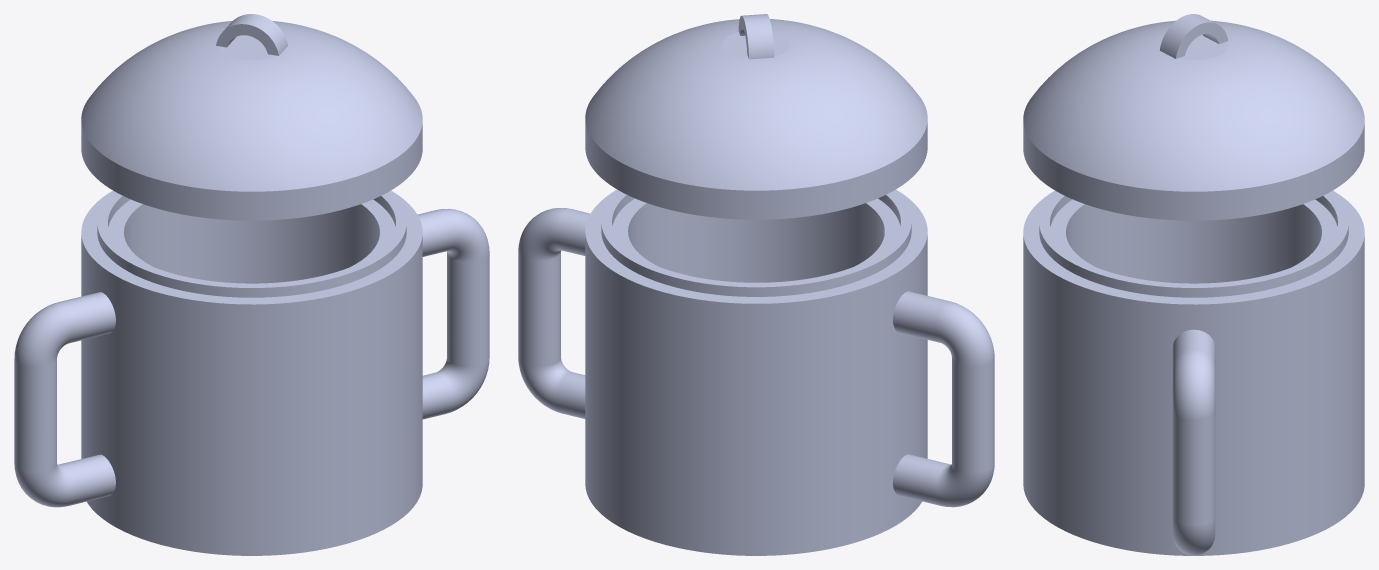
The model's file is BlindagemRadioativa.obj.
The picture shows the model from 3 angles, left to right: view 1: azimuth 30°, elevation 25°; view 2: azimuth 150°, elevation 25°; view 3: azimuth 270°, elevation 25°; orthographic projection.
Visible parts, largest first — view 1: Solid1, Solid2; view 2: Solid1, Solid2; view 3: Solid1, Solid2.
Part boxes in pixels (x1=…): Solid1: x1=14, y1=190, x2=489, y2=555; Solid2: x1=81, y1=14, x2=422, y2=220; Solid1: x1=518, y1=189, x2=994, y2=555; Solid2: x1=585, y1=14, x2=927, y2=219; Solid1: x1=1023, y1=190, x2=1364, y2=555; Solid2: x1=1023, y1=14, x2=1364, y2=220.
Size of the model in its own units: 0.254 by 0.24 by 0.16.
